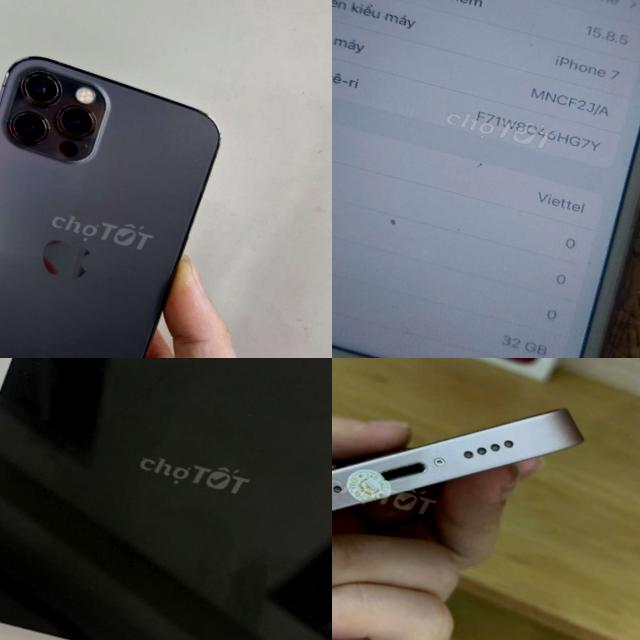gen_12_13: (0, 29, 250, 358), (332, 358, 604, 617)
gen_6: (0, 358, 332, 640)
gen_7_8: (332, 0, 640, 358)
